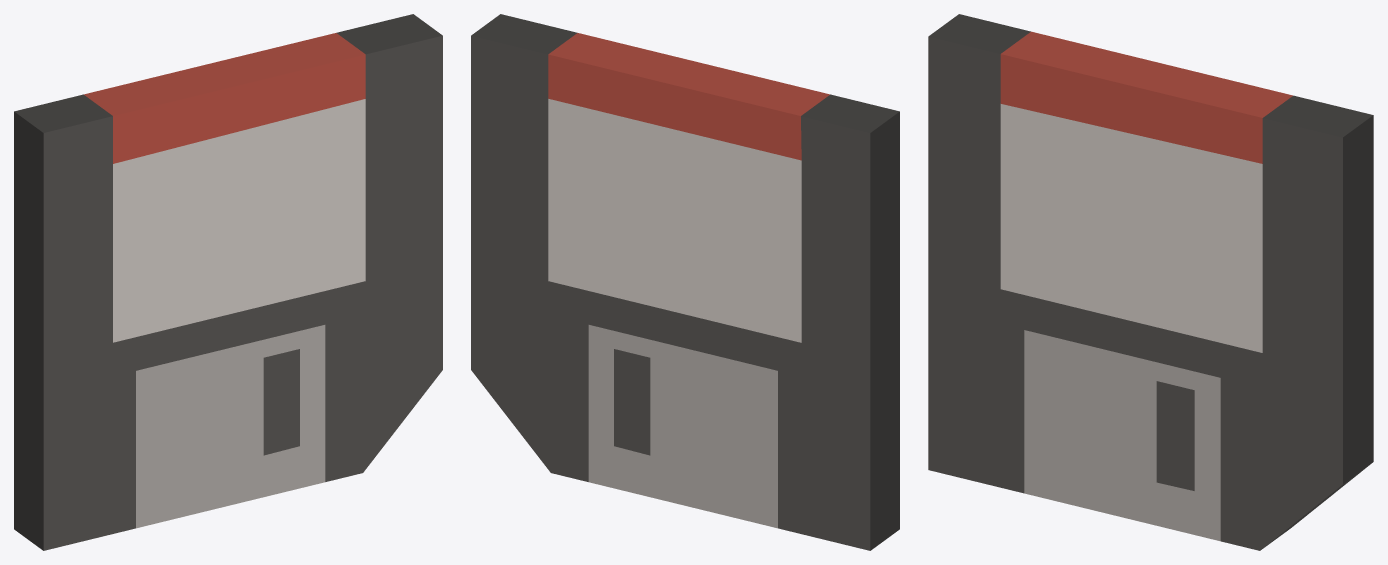
File: FloppyDisk2.glb
3 views of the same model, side by side, from view 1: azimuth 30°, elevation 25°; view 2: azimuth 150°, elevation 25°; view 3: azimuth 330°, elevation 25° (orthographic). The views are drawn at different scales.
Visible parts, largest first — view 1: SO_Floppydisk_02; view 2: SO_Floppydisk_02; view 3: SO_Floppydisk_02.
Boxes of the visible parts, left/top/right/bottom form: SO_Floppydisk_02: left=14, top=14, right=442, bottom=550; SO_Floppydisk_02: left=471, top=14, right=899, bottom=550; SO_Floppydisk_02: left=928, top=14, right=1373, bottom=550.
Size of the model in its own units: 0.314 by 0.314 by 0.0402.
Materials: 1 (1 with a texture image).
